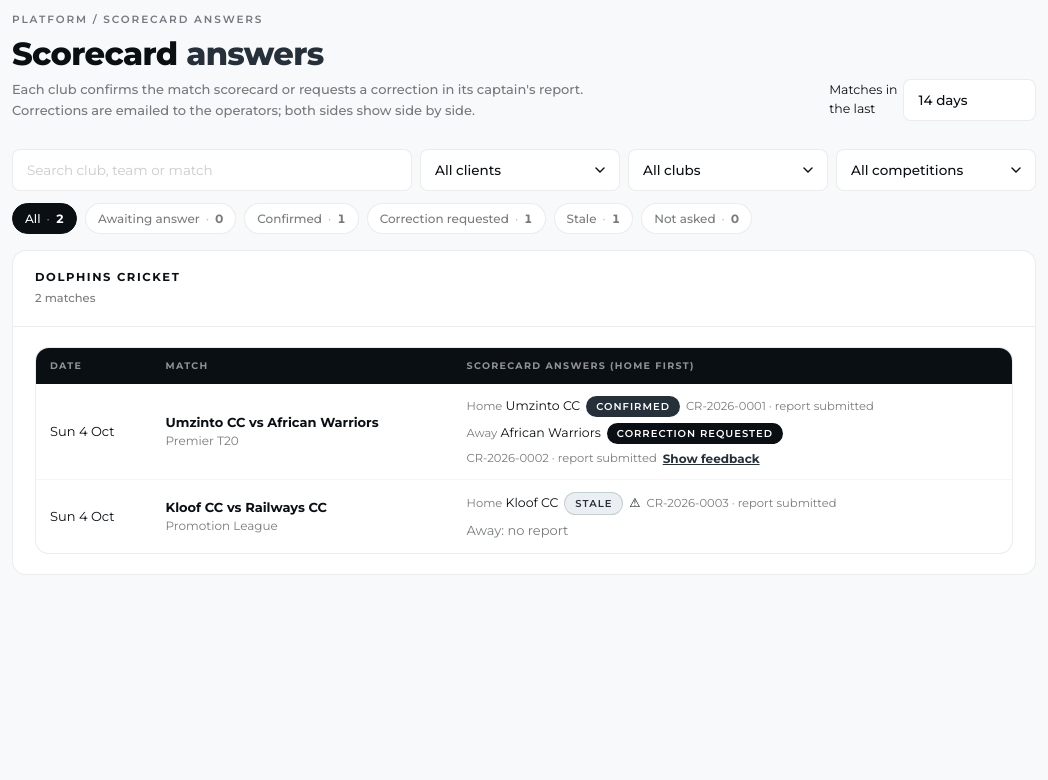
it: CaptainsReportScorecardsPage › opens and hides correction feedback on demand
Expected: the text "C Bowler took 3 wickets, not 2." is not shown
Click the button with aria-label "Show African Warriors feedback": (711, 458) [663,450,760,465]
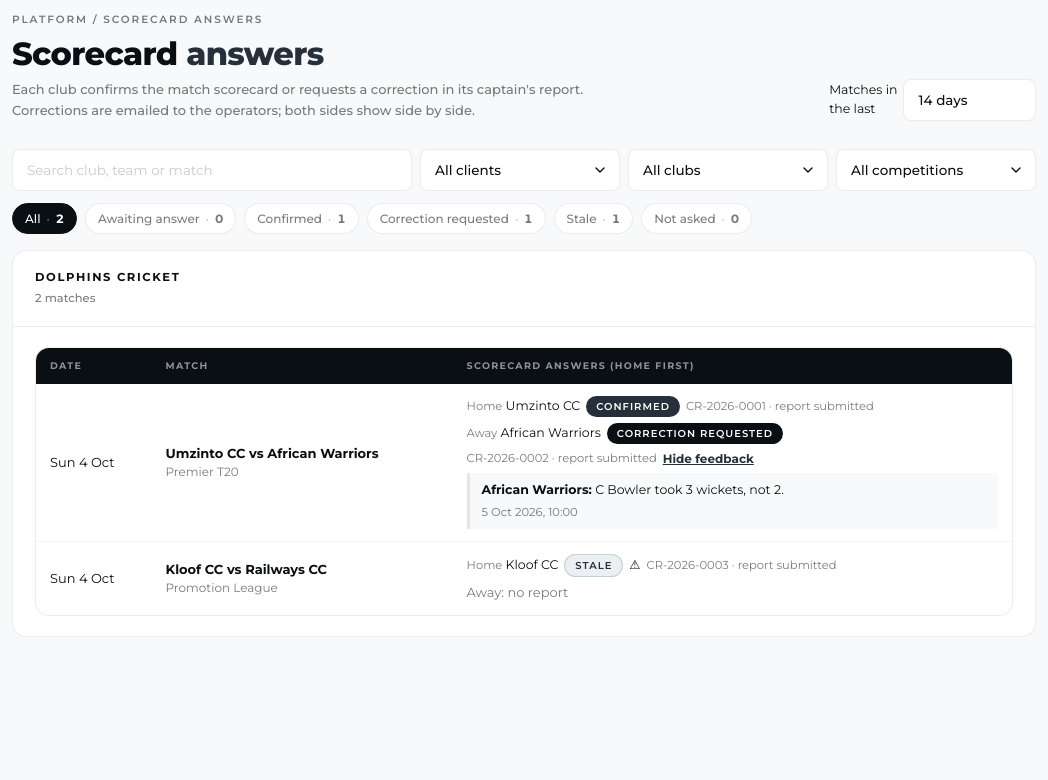
Expected: the button named "Show African Warriors feedback" is expanded
Expected: the element named "African Warriors feedback" shows "C Bowler took 3 wickets, not 2.", [595,482,784,496]
Click the button with aria-label "Hide African Warriors feedback": (708, 458) [663,450,754,465]
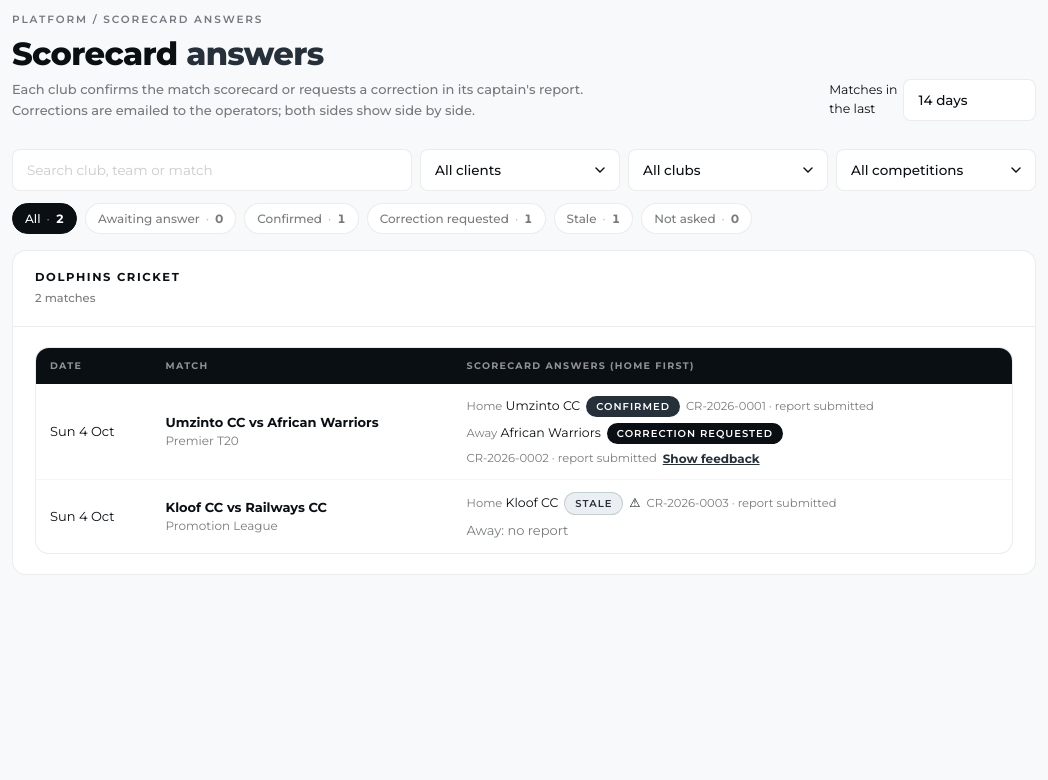
Expected: the text "C Bowler took 3 wickets, not 2." is gone
